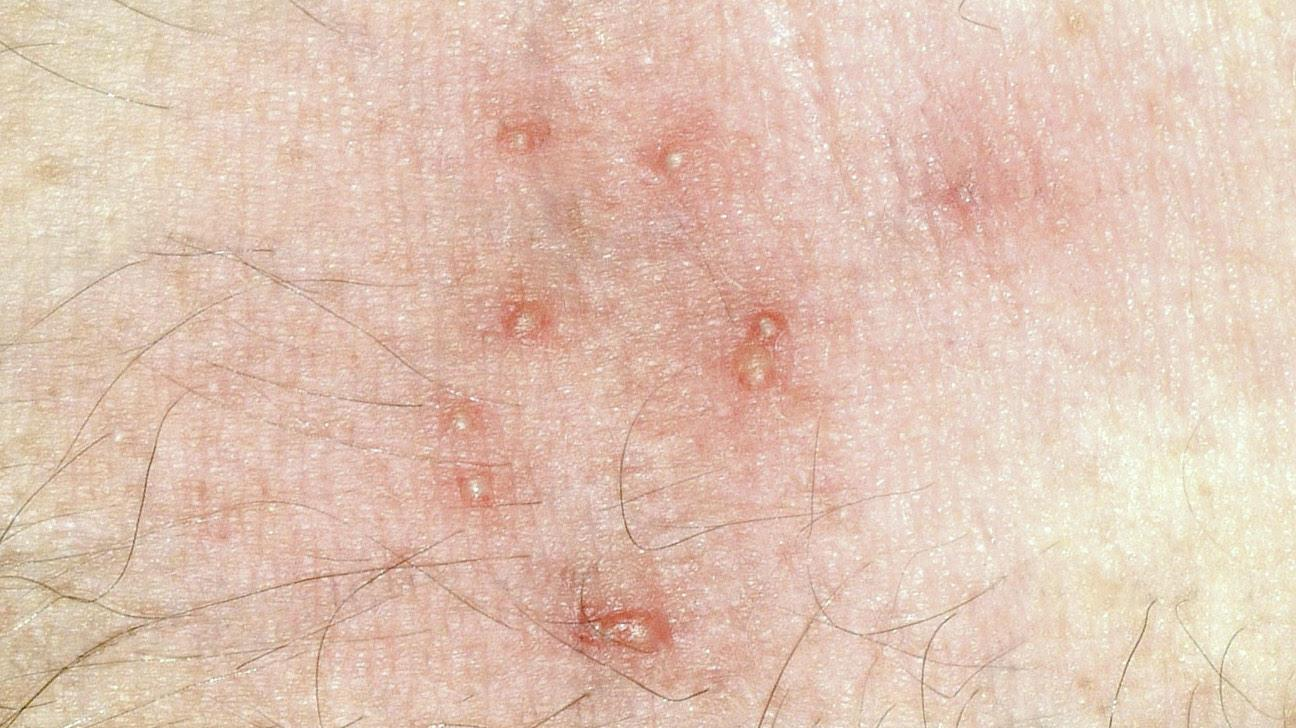Mites: (402, 121, 812, 671), (913, 127, 1022, 243), (426, 376, 513, 514), (708, 281, 790, 424), (578, 561, 682, 669), (629, 113, 727, 220), (478, 279, 570, 357)
